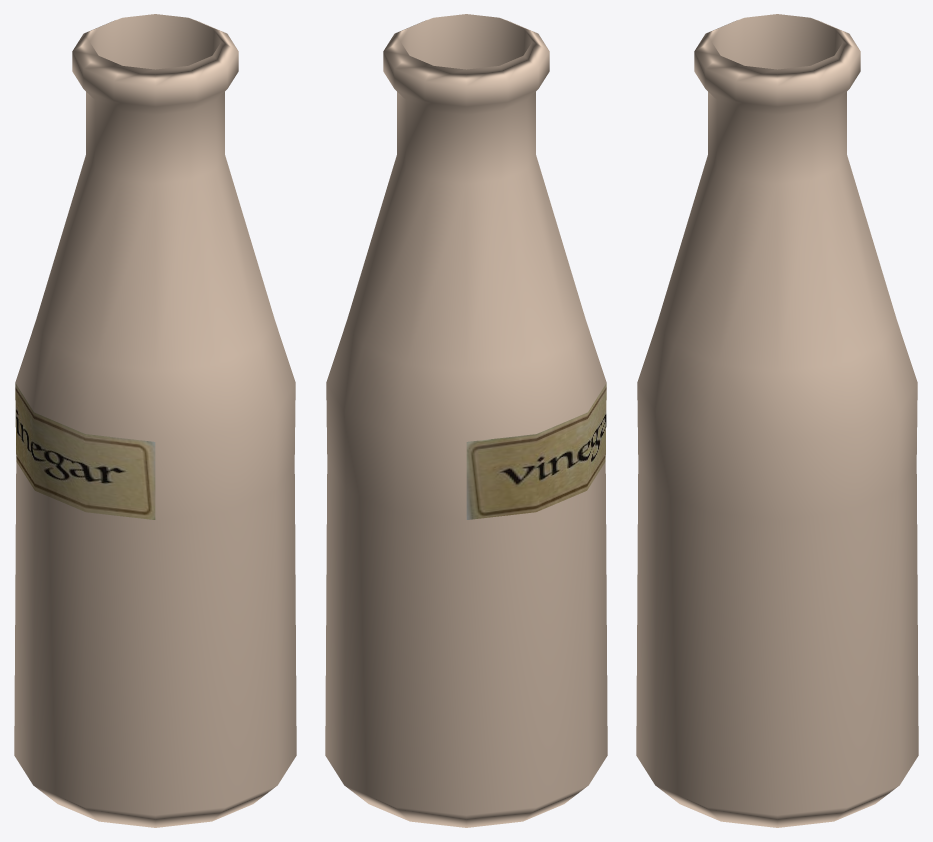
File: Vinegar bottle.fbx
3 renders of one model, left to right at view 1: azimuth 30°, elevation 25°; view 2: azimuth 150°, elevation 25°; view 3: azimuth 270°, elevation 25°, orthographic.
Parts seen in each view (by area): view 1: Vinegar_bottle; view 2: Vinegar_bottle; view 3: Vinegar_bottle.
Boxes of the visible parts, left/top/right/bottom form: Vinegar_bottle: left=14, top=14, right=296, bottom=827; Vinegar_bottle: left=325, top=14, right=607, bottom=827; Vinegar_bottle: left=636, top=14, right=918, bottom=827.
Size of the model in its own units: 9.03 by 26.05 by 9.03.
Materials: 2 (1 with a texture image).
